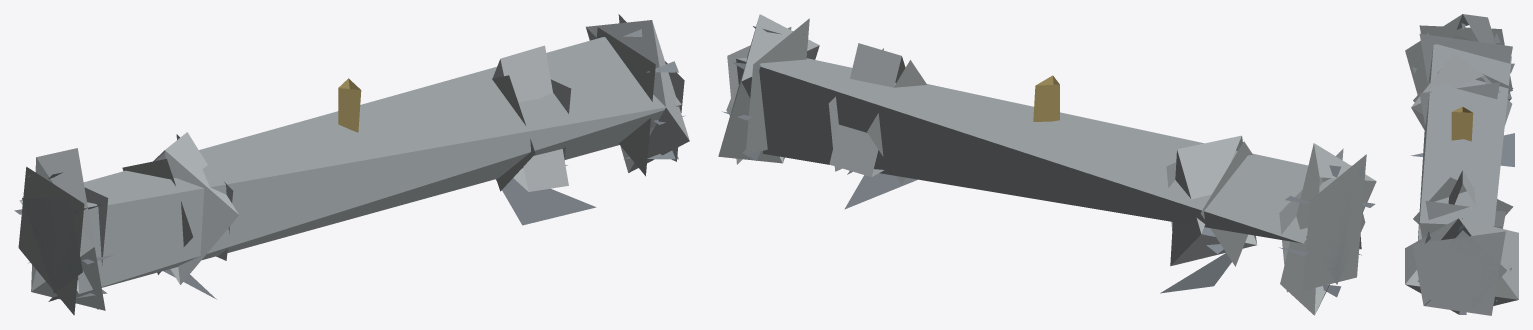
The picture shows the model from 3 angles, left to right: view 1: azimuth 30°, elevation 25°; view 2: azimuth 150°, elevation 25°; view 3: azimuth 270°, elevation 25°; orthographic projection. The views are drawn at different scales.
Parts seen in each view (by area): view 1: sea_pipeline.001; view 2: sea_pipeline.001; view 3: sea_pipeline.001.
Part boxes in pixels (left/top/right/bottom): sea_pipeline.001: left=14, top=14, right=689, bottom=315; sea_pipeline.001: left=718, top=14, right=1376, bottom=315; sea_pipeline.001: left=1405, top=14, right=1518, bottom=315.
Bounding box in the file's own units: 4.04 × 1.01 × 0.9356.
